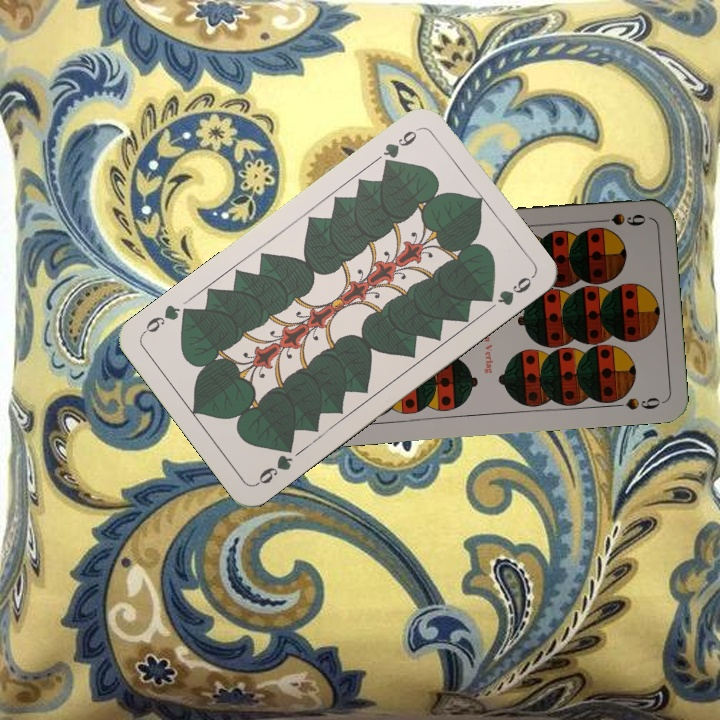G9: (252, 439, 296, 488), (379, 123, 423, 170)
S9: (589, 209, 649, 229)
